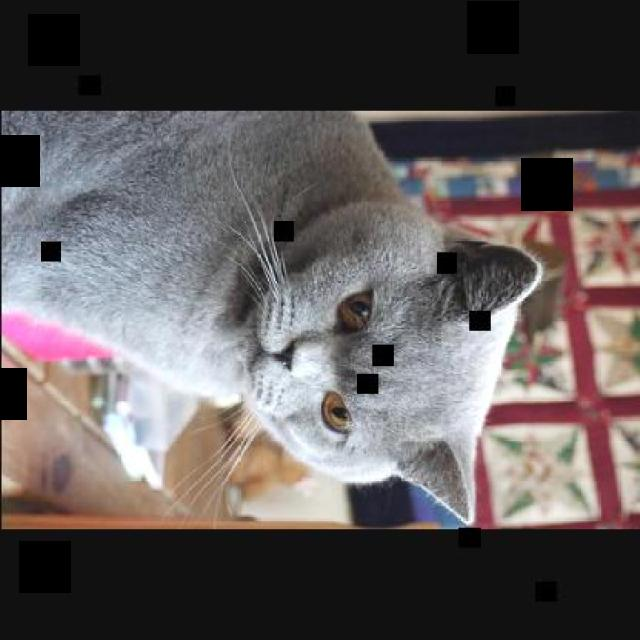unauthorized: (0, 109, 551, 525)
